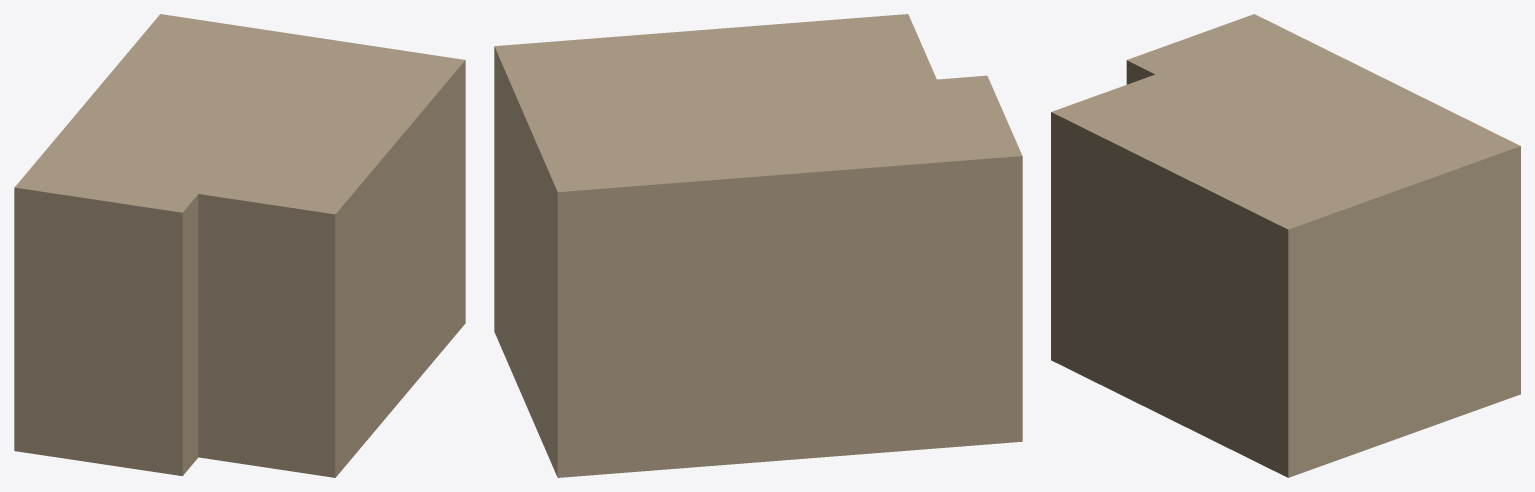
File: bld_55879516.dae
The picture shows the model from 3 angles, left to right: view 1: azimuth 30°, elevation 25°; view 2: azimuth 150°, elevation 25°; view 3: azimuth 270°, elevation 25°; orthographic projection. The views are drawn at different scales.
Visible parts, largest first — view 1: bld_55879516; view 2: bld_55879516; view 3: bld_55879516.
Boxes of the visible parts, <box> form: bld_55879516: <box>14,14,465,477</box>; bld_55879516: <box>494,14,1022,477</box>; bld_55879516: <box>1051,14,1520,477</box>.
Bounding box in the file's own units: 14.9 × 13.72 × 8.
